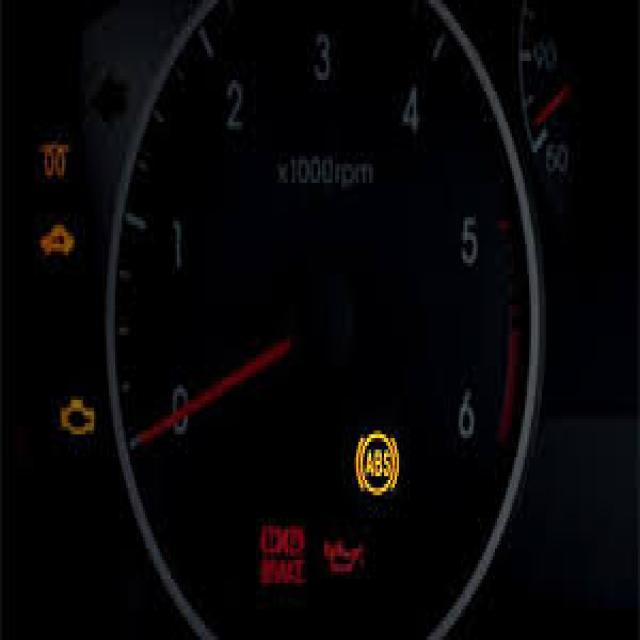kontrolka: (352, 424, 403, 506)
